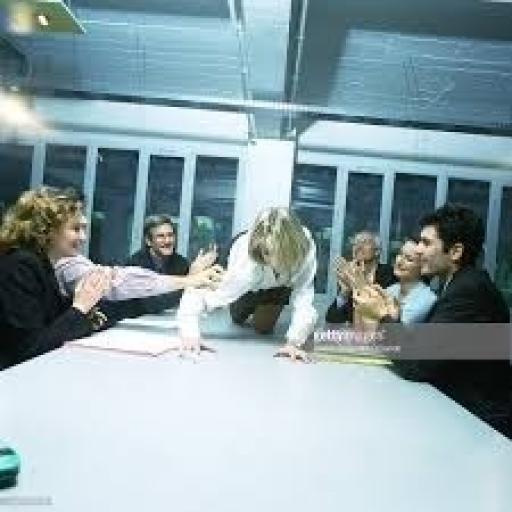clapping: (0, 182, 223, 373)
